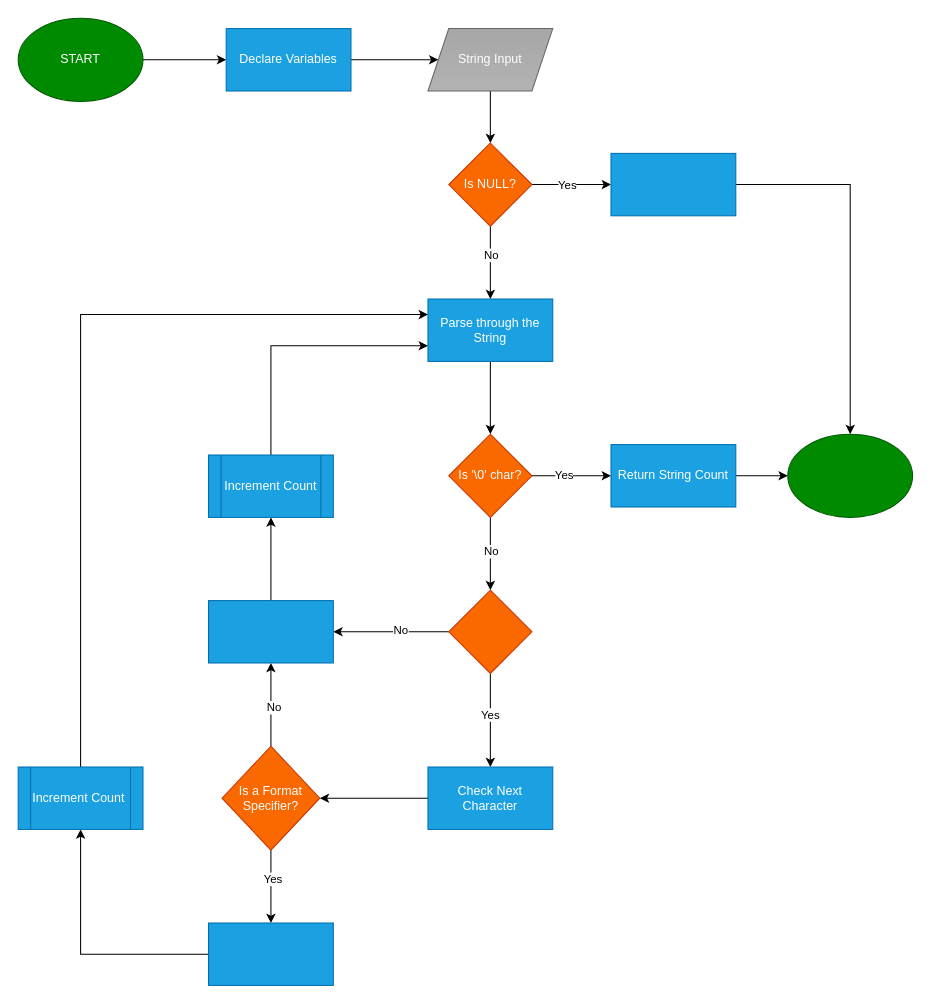
Image size: 931x1004. Some labels were removed from this diagram. The centre of each missing label's shape, as x and y in pixels:
END: pixel 850 475
Is '%' char?: pixel 490 631
Print Argument: pixel 270 953
Print Character: pixel 270 631
Return (-1): pixel 673 184
